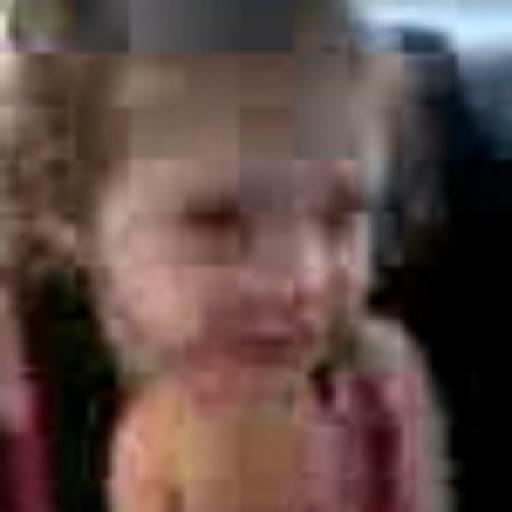Autism: (33, 23, 442, 419)
